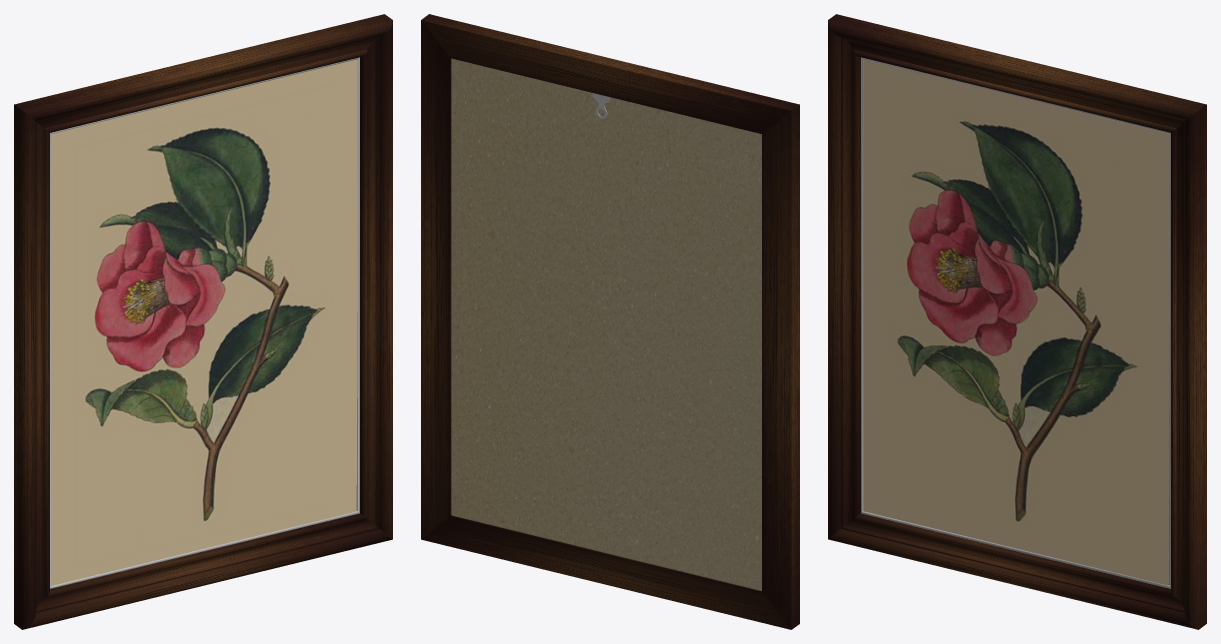
File: flowerB.fbx
3 renders of one model, left to right at view 1: azimuth 30°, elevation 25°; view 2: azimuth 150°, elevation 25°; view 3: azimuth 330°, elevation 25°, orthographic.
Parts seen in each view (by area): view 1: 戝; view 2: 戝; view 3: 戝.
Part boxes in pixels (x1=…): 戝: x1=14, y1=14, x2=392, y2=629; 戝: x1=421, y1=14, x2=799, y2=629; 戝: x1=828, y1=14, x2=1206, y2=629.
Size of the model in its own units: 102 by 137 by 5.33.
